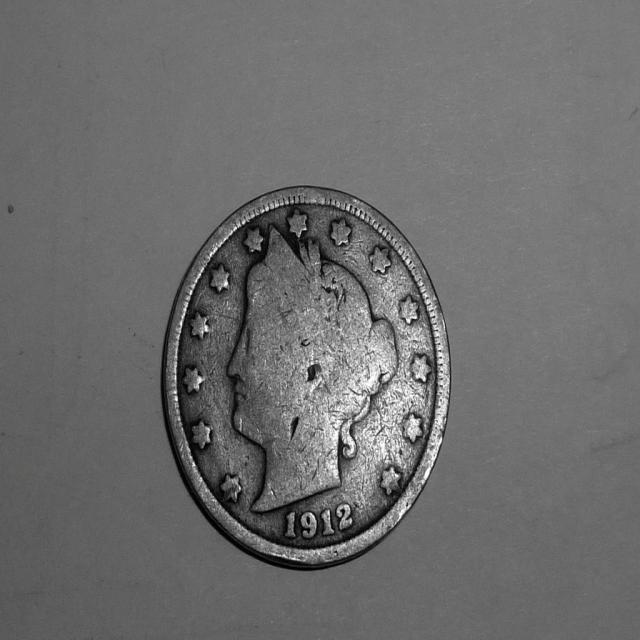Coin: (165, 186, 450, 567)
